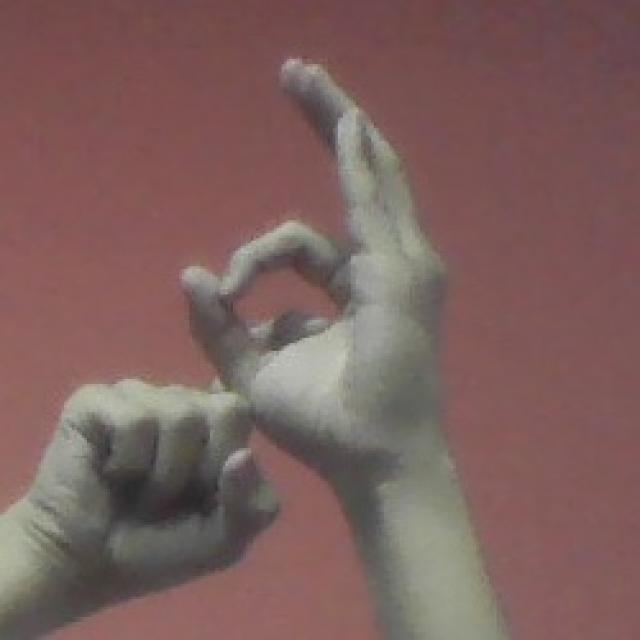Alphabet-Q: (0, 57, 489, 628)
